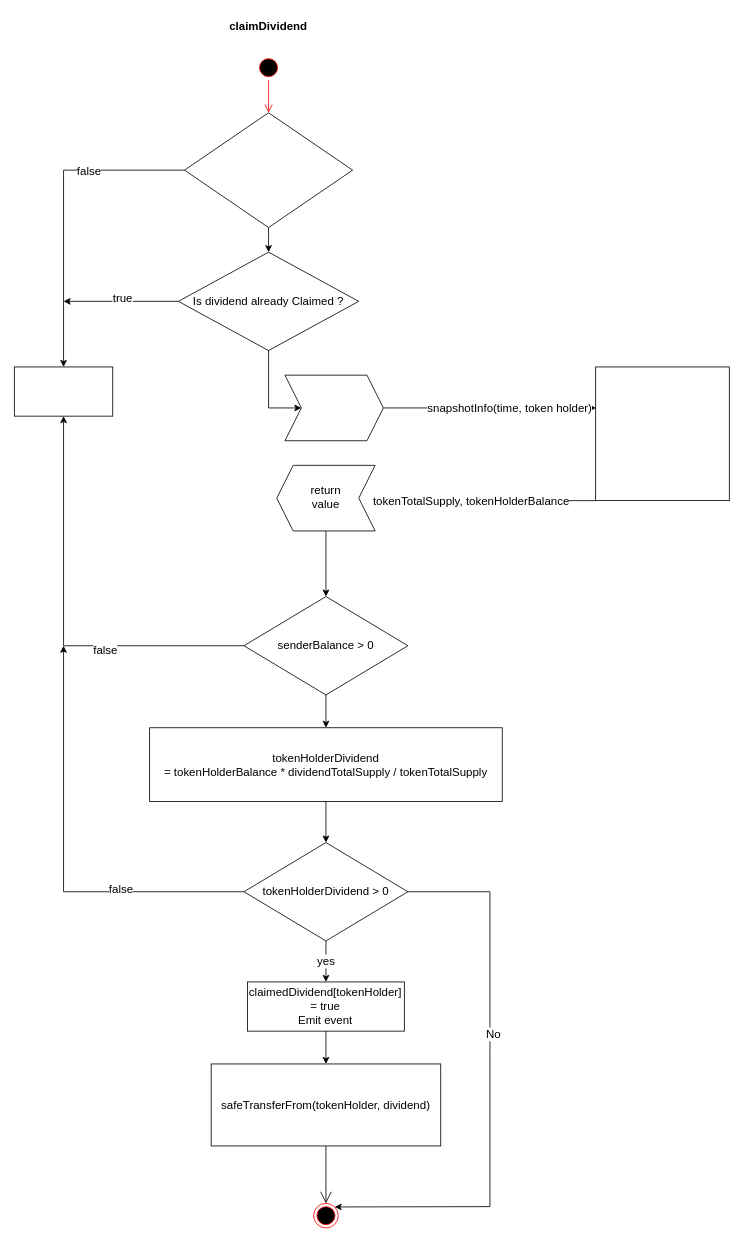
Image size: 744x1242. Some labels were removed from this diagram. Each missing label, with the centre of its shape:
"CMTAT" belongs at point (662, 433).
"External call" belongs at point (333, 407).
"Is claim opened for this time ?" belongs at point (268, 170).
"Revert" belongs at point (63, 391).
